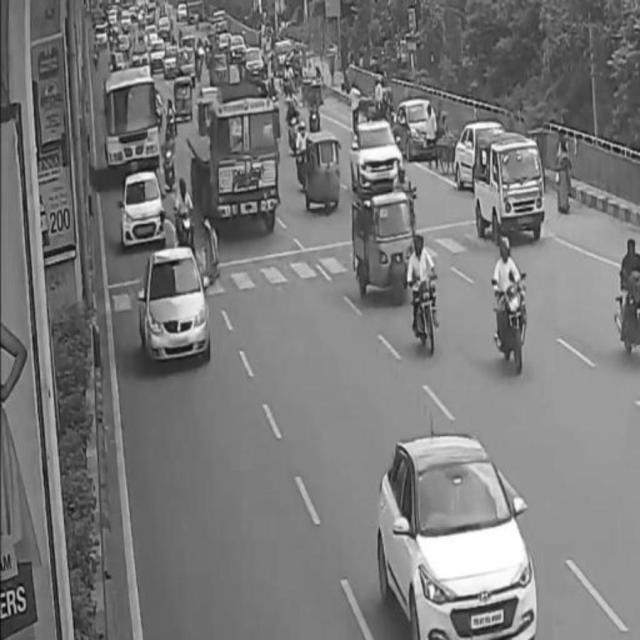person: (201, 213, 219, 289), (160, 205, 180, 251)
vehicle: (377, 434, 537, 640), (211, 103, 279, 233), (141, 246, 212, 364), (474, 133, 544, 243), (351, 194, 412, 298), (102, 84, 160, 172), (494, 239, 528, 371), (410, 227, 435, 357), (305, 135, 342, 221), (123, 174, 167, 244), (354, 127, 404, 185), (618, 233, 640, 354), (176, 175, 194, 256)
